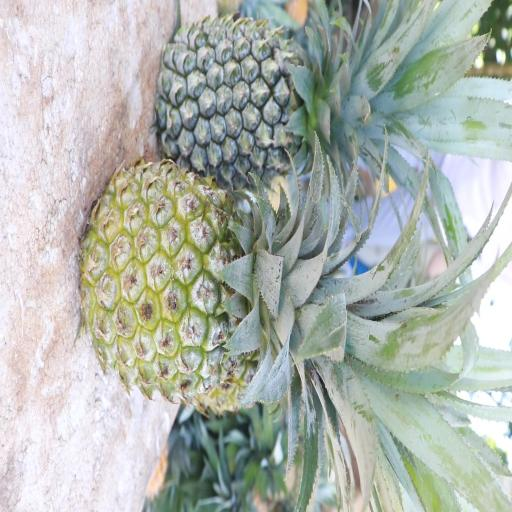------------------------------: (76, 142, 365, 394)
